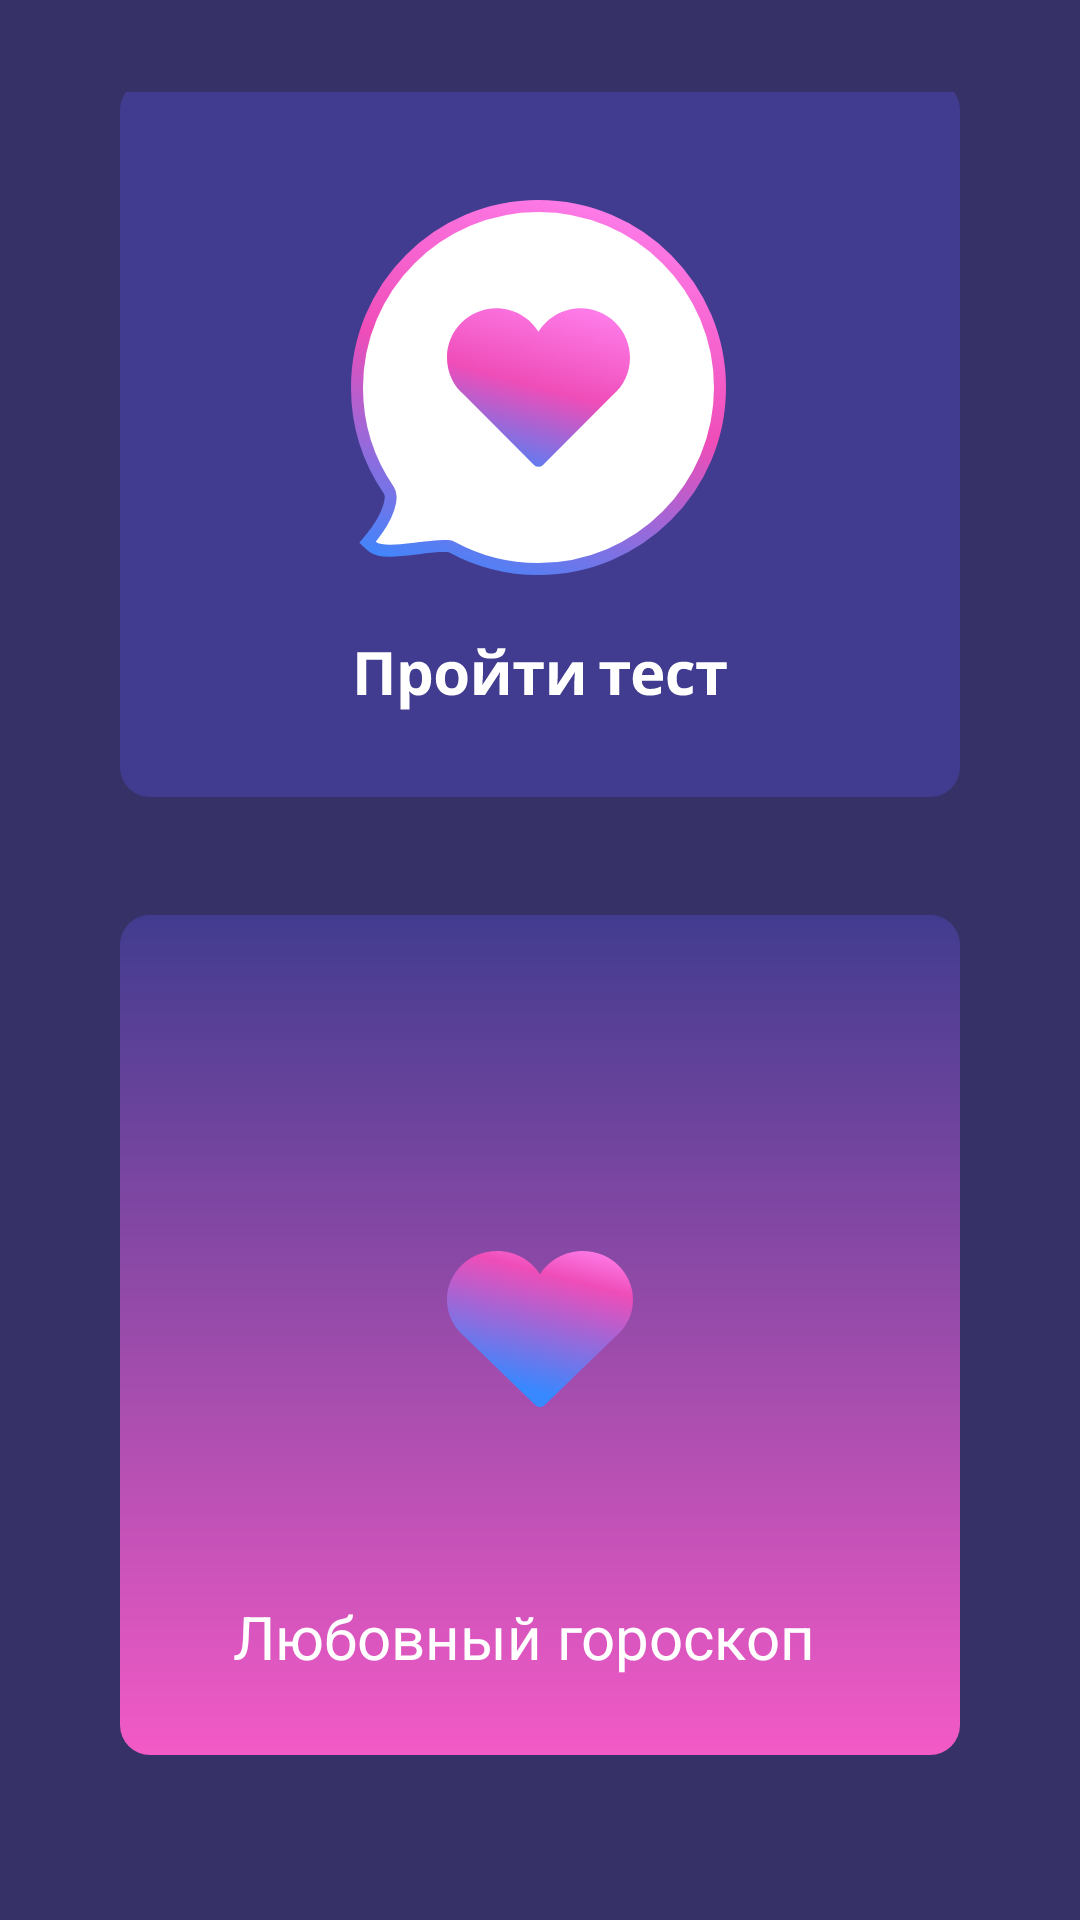

Screen size 1080*1920. Icon name, then its center in pixels as (x,y):
heart: (540,1329)
